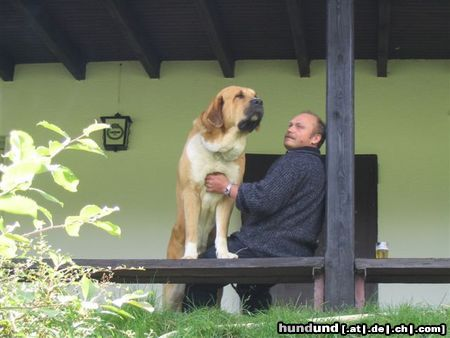human_face: (282, 113, 321, 150)
mastin_espanol: (161, 83, 264, 313)
person: (182, 110, 326, 312)
